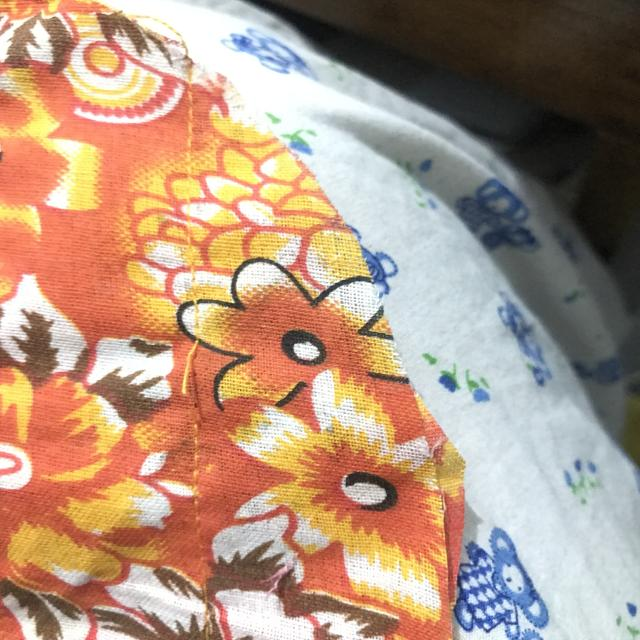broken: (158, 317, 233, 435)
